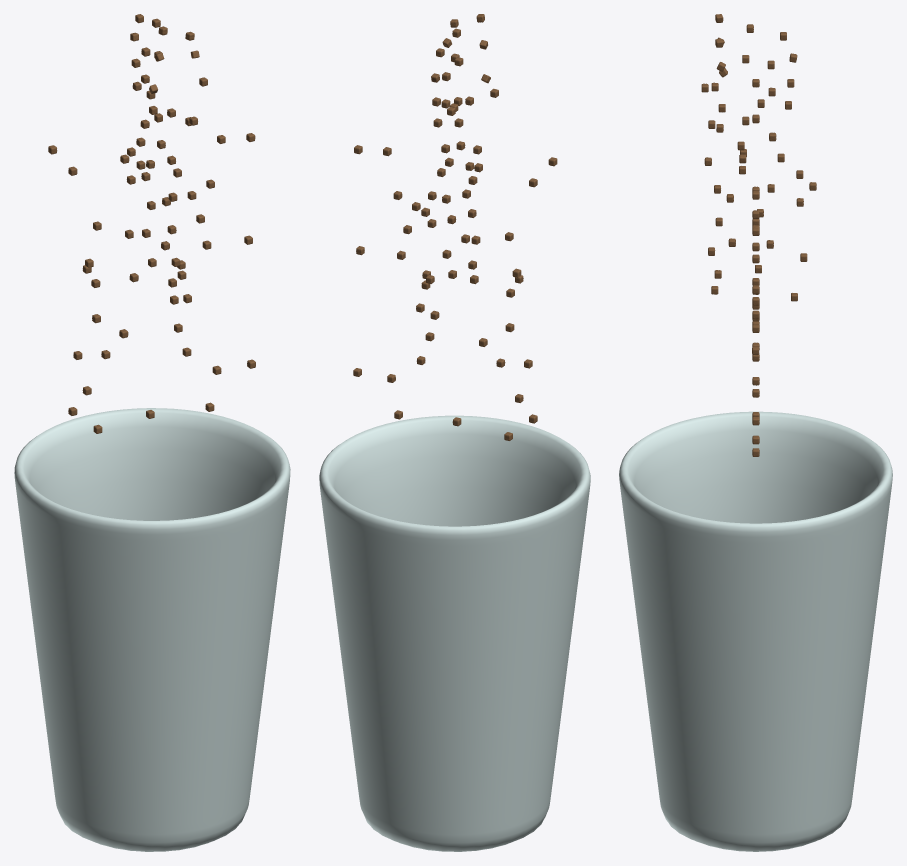
File: CoffeeGrounds.glb
3 renders of one model, left to right at view 1: azimuth 30°, elevation 25°; view 2: azimuth 150°, elevation 25°; view 3: azimuth 270°, elevation 25°, orthographic.
Parts seen in each view (by area): view 1: Circle; view 2: Circle; view 3: Circle.
Boxes of the visible parts, x1,y1,x2,y2 form: Circle: [14, 408, 290, 851]; Circle: [319, 415, 590, 851]; Circle: [619, 411, 892, 851].
Bounding box in the file's own units: 4.66 × 15.12 × 4.66.
